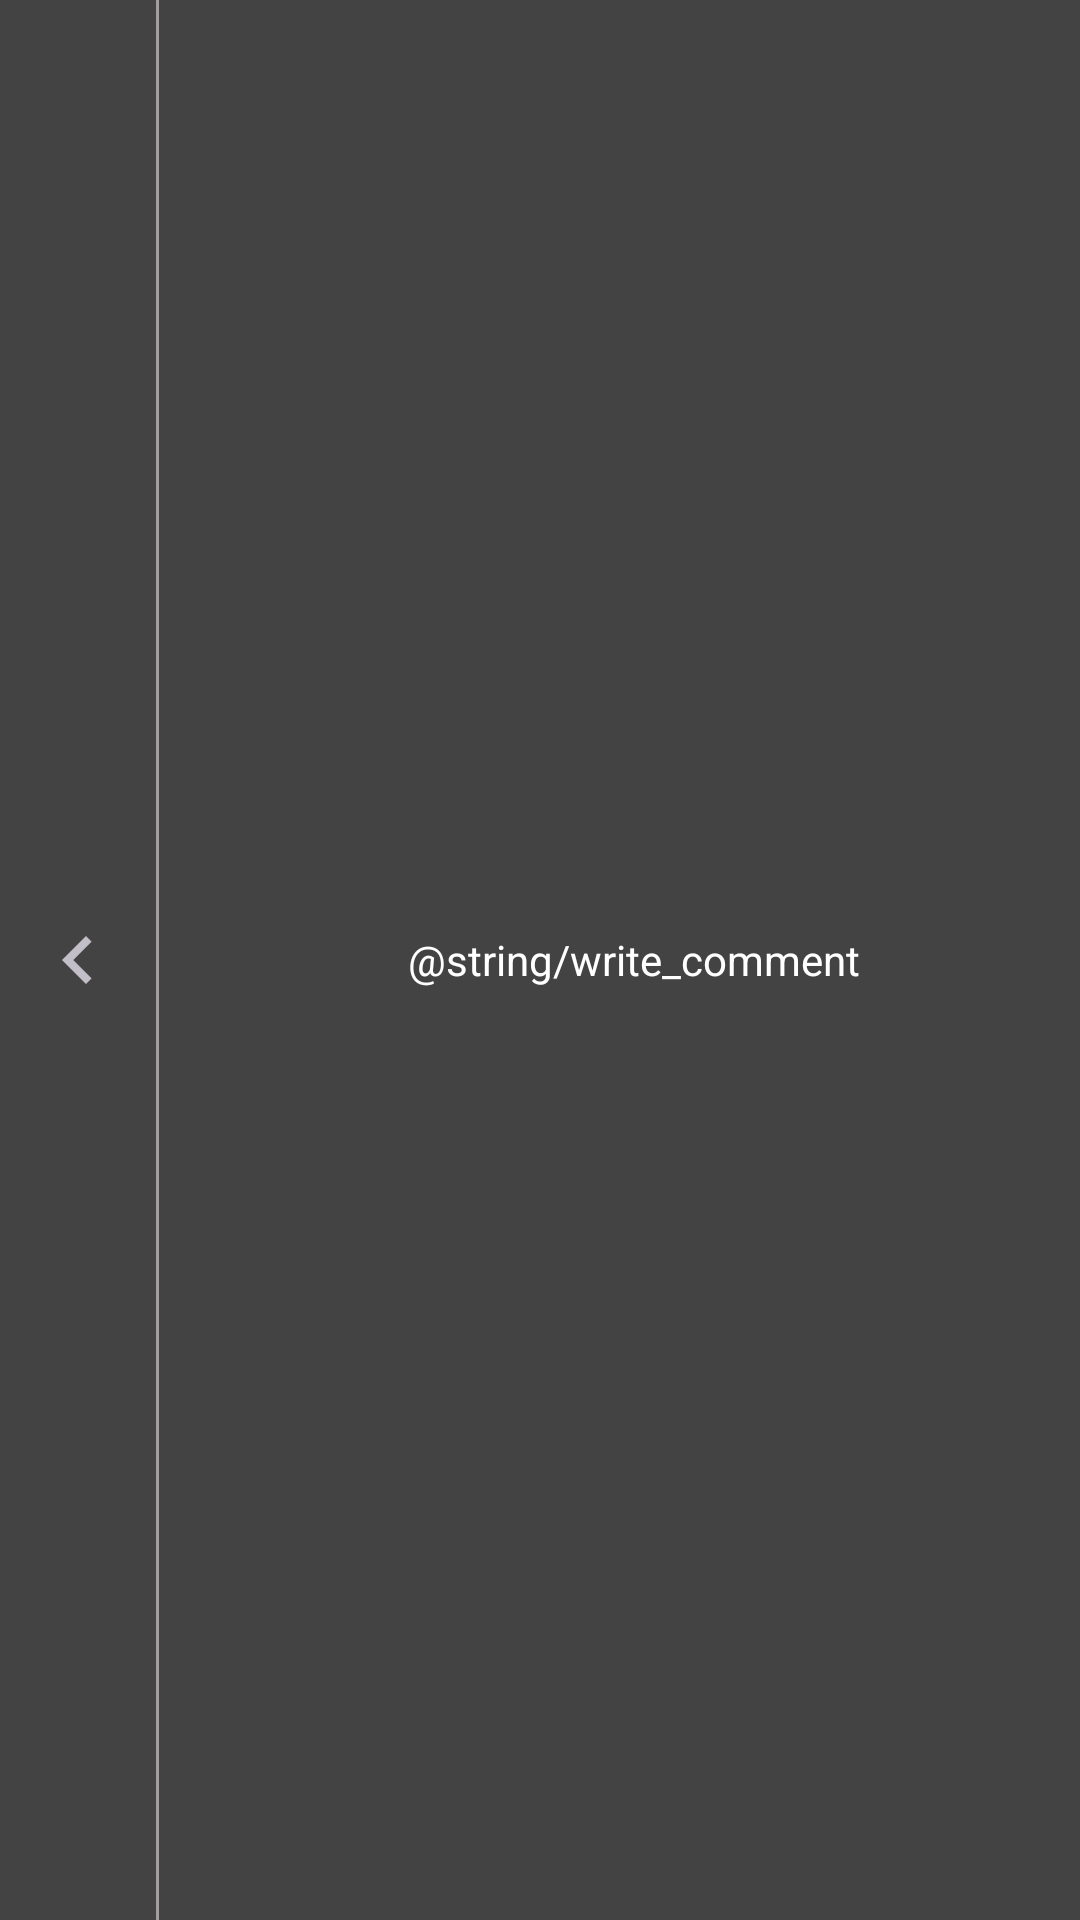

Named icons in this screenshot (1080×1920) and their centers, [x,y]:
back: [77,960]
